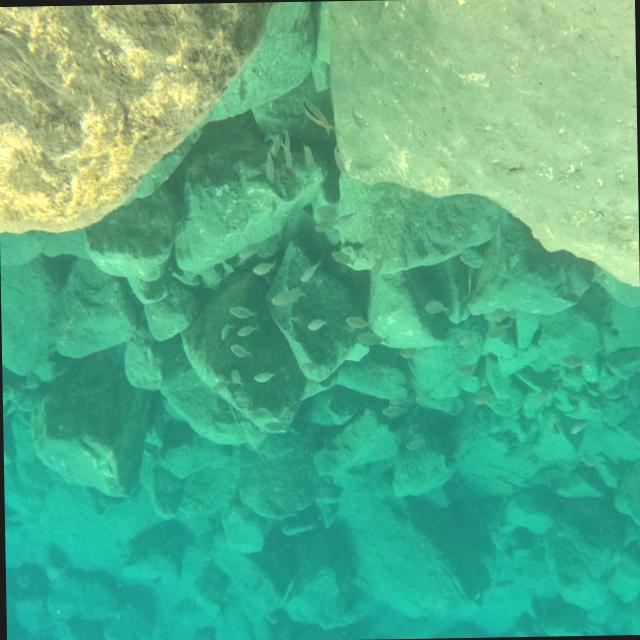Sokar Baligi: (299, 84, 338, 140), (421, 288, 454, 322), (270, 284, 307, 312)
